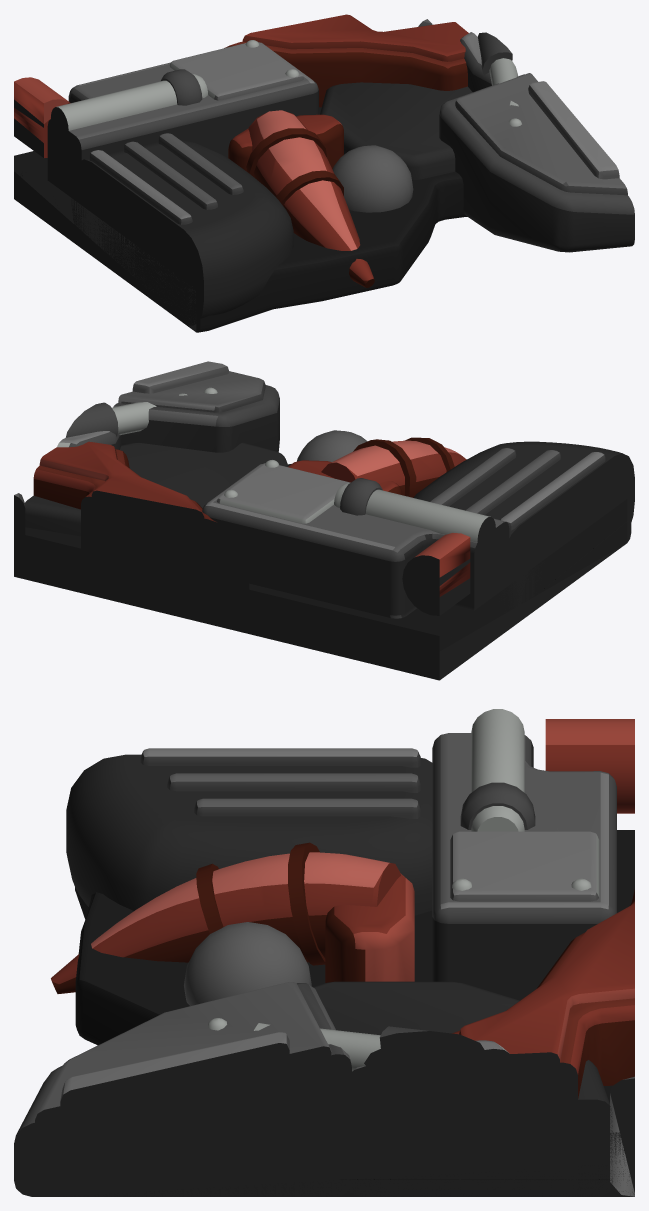
The model's file is core_machine_bcr.glb.
The picture shows the model from 3 angles, top to bottom: view 1: azimuth 30°, elevation 25°; view 2: azimuth 150°, elevation 25°; view 3: azimuth 270°, elevation 25°; orthographic projection. The views are drawn at different scales.
Parts seen in each view (by area): view 1: belly.001, chassis.001, shin_r.001, pelvis.001, hip_r.001, shin_panel_r.001, claw_r.001, lower_plate_r.001, lower_panel_r.001, pelvis_panel1.001, claw_ball_r.001, axle.001 (+12 smaller); view 2: chassis.001, pelvis.001, lower_plate_r.001, belly.001, hip_r.001, lower_panel_r.001, shin_r.001, pelvis_panel1.001, core_rod.001, axle.001, claw_r.001, shin_panel_r.001 (+12 smaller); view 3: chassis.001, belly.001, pelvis.001, hip_r.001, shin_panel_r.001, shin_ridge_r.001, claw_r.001, shin_r.001, lower_plate_r.001, lower_panel_r.001, pelvis_panel1.001, thigh_r.001 (+13 smaller).
Part boxes in pixels (x1,y1,x2,y2): belly.001: (71, 140, 293, 325); chassis.001: (14, 107, 467, 332); shin_r.001: (439, 74, 634, 252); pelvis.001: (20, 42, 318, 242); hip_r.001: (320, 82, 472, 179); shin_panel_r.001: (455, 73, 627, 195); claw_r.001: (248, 110, 374, 287); lower_plate_r.001: (224, 41, 467, 107); lower_panel_r.001: (242, 14, 468, 61); pelvis_panel1.001: (169, 42, 303, 100); claw_ball_r.001: (332, 145, 413, 212); axle.001: (51, 74, 207, 141); chassis.001: (14, 464, 631, 680); pelvis.001: (202, 464, 509, 618); lower_plate_r.001: (33, 449, 249, 626); belly.001: (413, 441, 634, 624); hip_r.001: (24, 442, 288, 536); lower_panel_r.001: (39, 441, 204, 527); shin_r.001: (113, 385, 279, 452); pelvis_panel1.001: (217, 463, 350, 523); core_rod.001: (402, 533, 470, 615); axle.001: (334, 483, 495, 552); claw_r.001: (321, 440, 466, 495); shin_panel_r.001: (118, 371, 265, 412); chassis.001: (30, 830, 634, 1196); belly.001: (66, 754, 432, 915); pelvis.001: (432, 733, 616, 1000); hip_r.001: (313, 981, 612, 1196); shin_panel_r.001: (35, 982, 331, 1136); shin_ridge_r.001: (60, 1032, 289, 1169); claw_r.001: (51, 852, 400, 993); shin_r.001: (14, 983, 351, 1196); lower_plate_r.001: (452, 889, 634, 1196); lower_panel_r.001: (459, 903, 634, 1081); pelvis_panel1.001: (450, 831, 599, 901); thigh_r.001: (342, 1040, 514, 1196).
Bounding box in the file's own units: 24 × 7.23 × 20.85.
